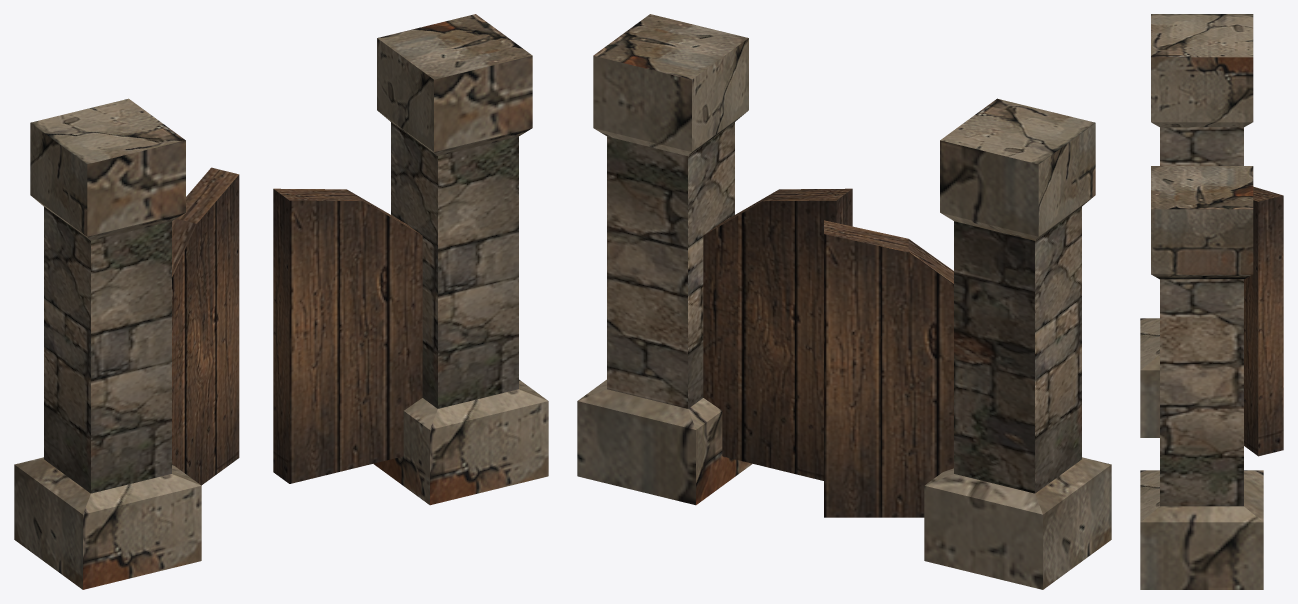
Rendered from fence_4.fbx.
3 renders of one model, left to right at view 1: azimuth 30°, elevation 25°; view 2: azimuth 150°, elevation 25°; view 3: azimuth 270°, elevation 25°, orthographic. The views are drawn at different scales.
Visible parts, largest first — view 1: fence_4; view 2: fence_4; view 3: fence_4.
Part boxes in pixels (box(x1,y1,x2,y2)): fence_4: box(14, 14, 548, 589); fence_4: box(577, 14, 1111, 589); fence_4: box(1140, 14, 1283, 589).
Bounding box in the file's own units: 4.03 × 3.46 × 1.19.
